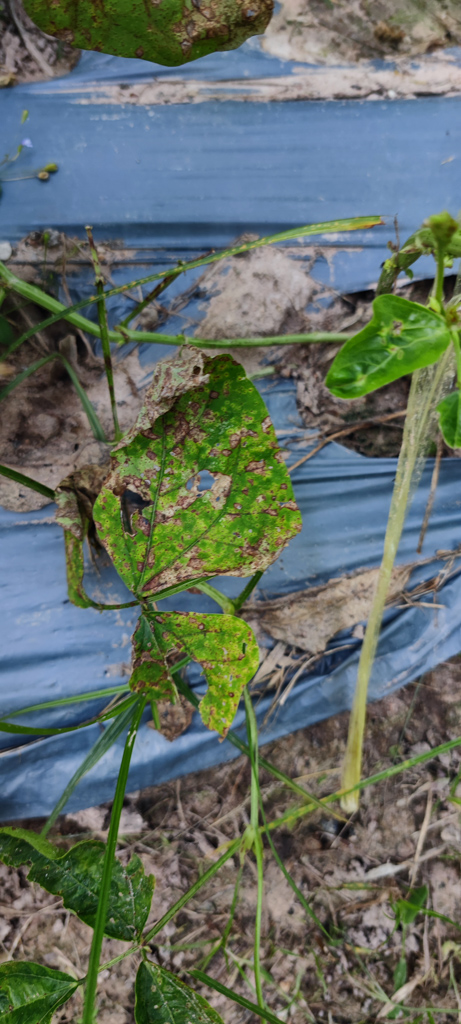Rust: (91, 348, 303, 603), (96, 611, 274, 740), (29, 456, 105, 613)
